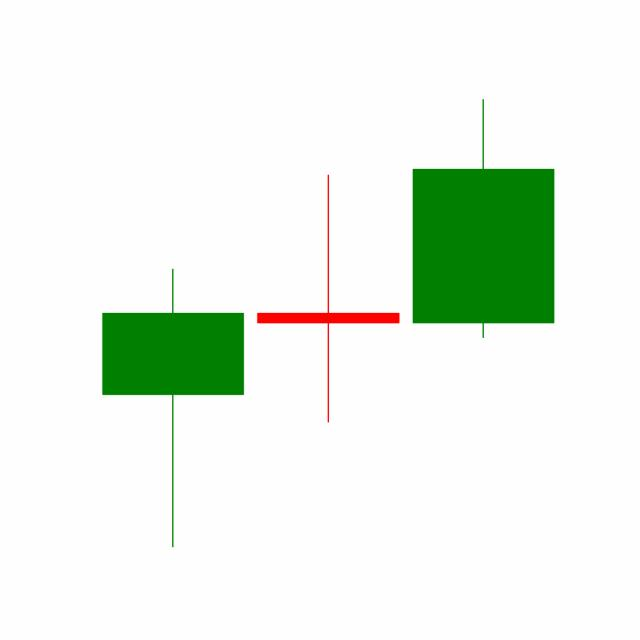Spinning Top: (249, 171, 406, 425)
